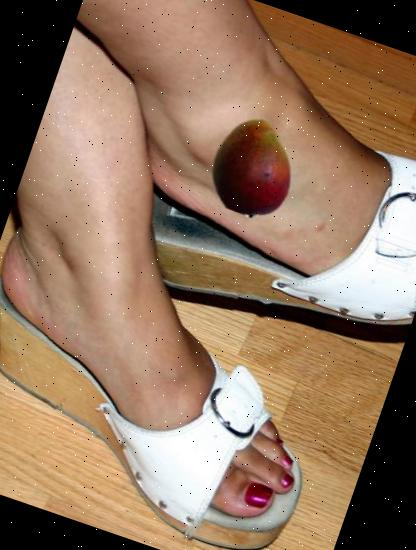Mango: (193, 107, 316, 228)
